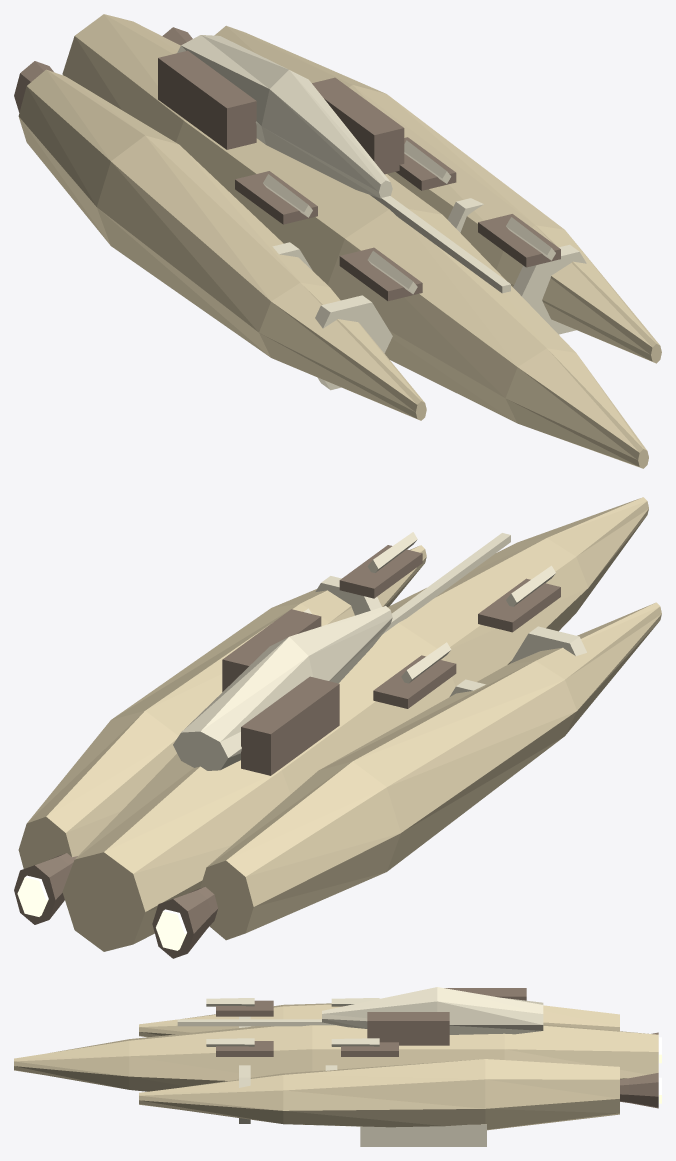
3 views of the same model, one above another, from view 1: azimuth 30°, elevation 25°; view 2: azimuth 150°, elevation 25°; view 3: azimuth 270°, elevation 25° (orthographic). The views are drawn at different scales.
Size of the model in its own units: 6.4 by 3.84 by 18.89.
